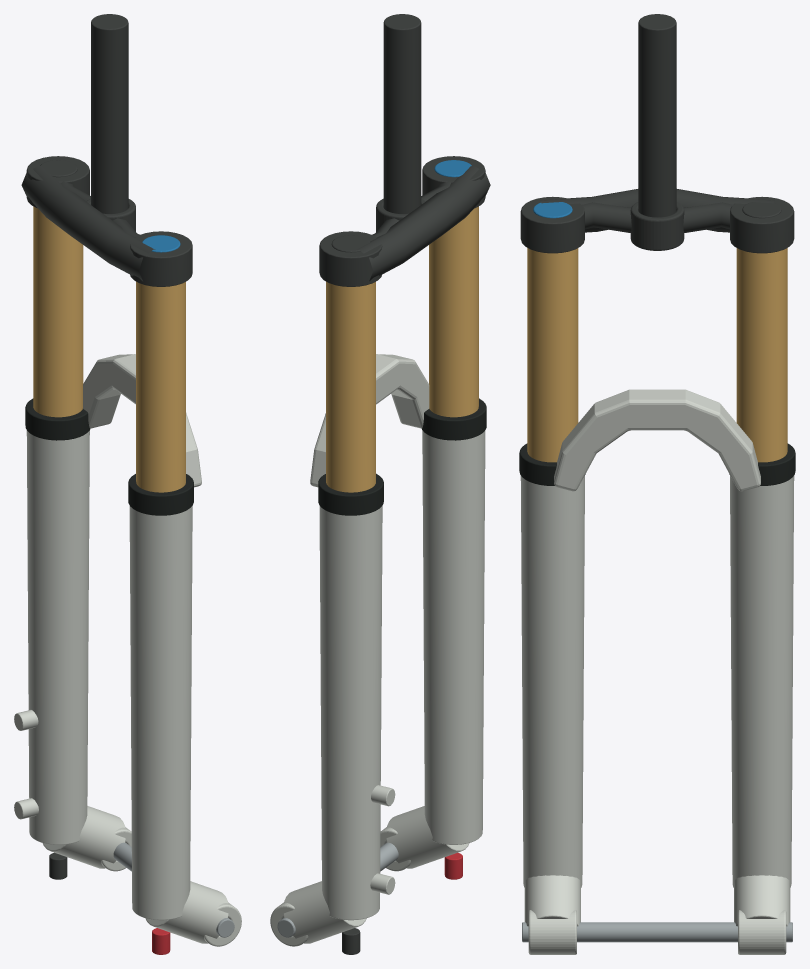
File: fox-38-factory-my27--5edd058a.glb
3 renders of one model, left to right at view 1: azimuth 30°, elevation 25°; view 2: azimuth 150°, elevation 25°; view 3: azimuth 270°, elevation 25°, orthographic.
Parts seen in each view (by area): view 1: fox-38-factory-my27--5edd058a__frame, fox-38-factory-my27--5edd058a__stanchions, fox-38-factory-my27--5edd058a__link, fox-38-factory-my27--5edd058a__protection, fox-38-factory-my27--5edd058a__bolts, fox-38-factory-my27--5edd058a__adjuster; view 2: fox-38-factory-my27--5edd058a__frame, fox-38-factory-my27--5edd058a__stanchions, fox-38-factory-my27--5edd058a__link, fox-38-factory-my27--5edd058a__protection, fox-38-factory-my27--5edd058a__bolts, fox-38-factory-my27--5edd058a__adjuster; view 3: fox-38-factory-my27--5edd058a__frame, fox-38-factory-my27--5edd058a__stanchions, fox-38-factory-my27--5edd058a__link, fox-38-factory-my27--5edd058a__bolts, fox-38-factory-my27--5edd058a__protection.
Part boxes in pixels (x1,y1,x2,y2): fox-38-factory-my27--5edd058a__frame: [14, 354, 241, 946]; fox-38-factory-my27--5edd058a__stanchions: [33, 206, 185, 492]; fox-38-factory-my27--5edd058a__link: [21, 14, 192, 879]; fox-38-factory-my27--5edd058a__protection: [25, 398, 193, 515]; fox-38-factory-my27--5edd058a__bolts: [113, 842, 234, 937]; fox-38-factory-my27--5edd058a__adjuster: [142, 235, 180, 252]; fox-38-factory-my27--5edd058a__frame: [270, 354, 485, 946]; fox-38-factory-my27--5edd058a__stanchions: [326, 206, 478, 492]; fox-38-factory-my27--5edd058a__link: [319, 14, 490, 954]; fox-38-factory-my27--5edd058a__protection: [318, 398, 486, 515]; fox-38-factory-my27--5edd058a__bolts: [277, 842, 398, 937]; fox-38-factory-my27--5edd058a__adjuster: [434, 160, 471, 177]; fox-38-factory-my27--5edd058a__frame: [520, 389, 794, 954]; fox-38-factory-my27--5edd058a__stanchions: [527, 248, 787, 462]; fox-38-factory-my27--5edd058a__link: [520, 14, 794, 253]; fox-38-factory-my27--5edd058a__bolts: [522, 922, 792, 942]; fox-38-factory-my27--5edd058a__protection: [519, 443, 795, 485].
Bounding box in the file's own units: 0.1 × 0.747 × 0.206.
